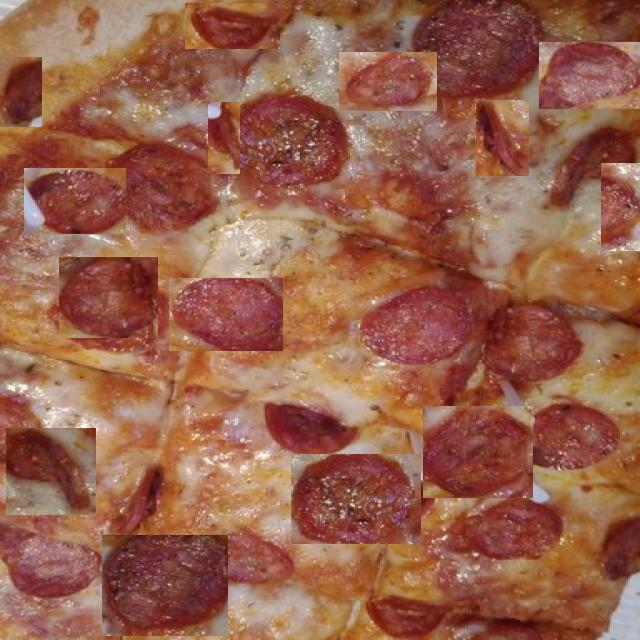pepperoni: (102, 535, 228, 636), (291, 454, 421, 544), (423, 406, 533, 498), (471, 285, 588, 371), (169, 278, 283, 351), (59, 257, 160, 338), (6, 428, 96, 515), (539, 42, 640, 109), (24, 168, 126, 234), (80, 71, 173, 143), (339, 52, 437, 111), (286, 176, 378, 234), (185, 3, 280, 49), (476, 100, 529, 176), (601, 163, 640, 251), (0, 57, 42, 127), (208, 102, 240, 174)
pizza: (0, 0, 640, 640)
